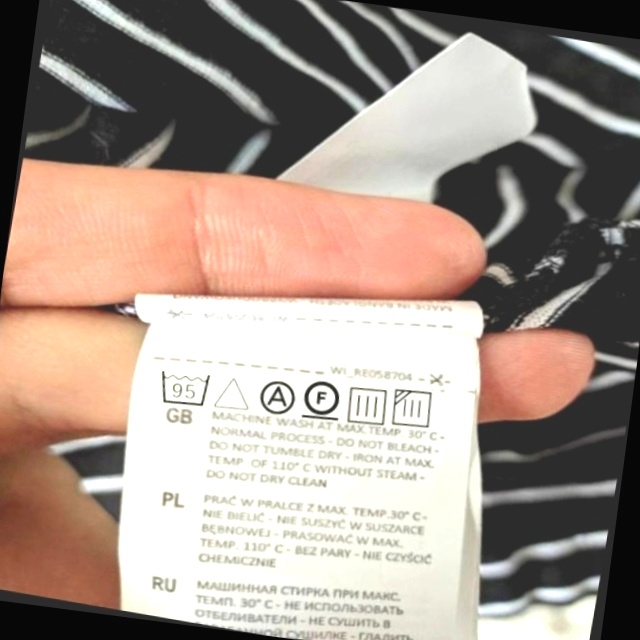95C: (154, 362, 217, 413)
bleach: (211, 368, 254, 417)
drip_dry: (341, 379, 394, 430)
drip_dry_in_shade: (388, 382, 442, 435)
dry_clean: (253, 375, 299, 419)
dry_clean_petrol_only: (298, 372, 347, 425)
